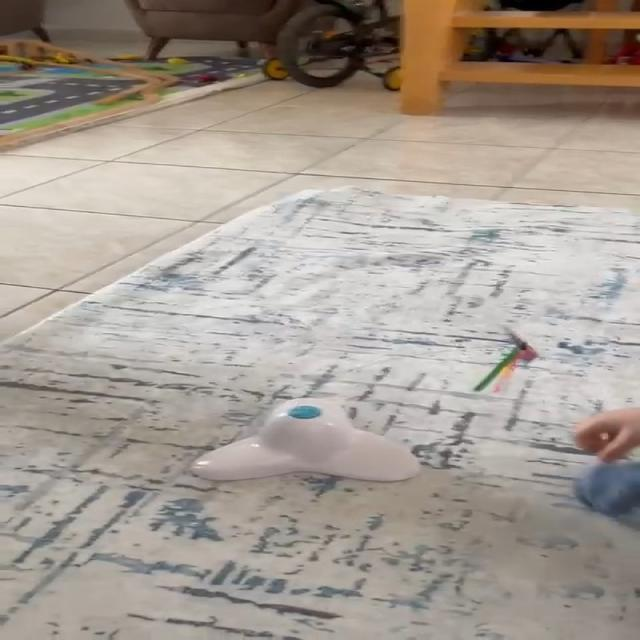authorized: (188, 395, 421, 483)
